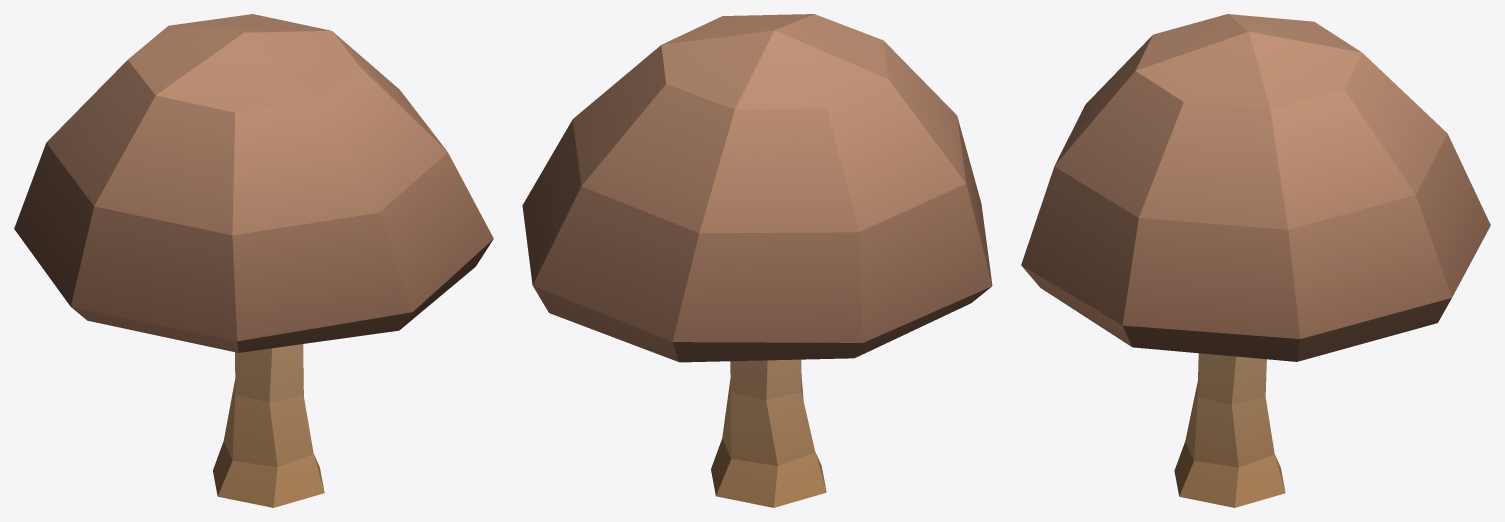
Rendered from grzyb8.fbx.
3 renders of one model, left to right at view 1: azimuth 30°, elevation 25°; view 2: azimuth 150°, elevation 25°; view 3: azimuth 270°, elevation 25°, orthographic. The views are drawn at different scales.
Parts seen in each view (by area): view 1: grzyb8, Circle.007; view 2: grzyb8, Circle.007; view 3: grzyb8, Circle.007.
Part boxes in pixels (x1,y1,x2,y2): grzyb8: (14, 14, 493, 352); Circle.007: (213, 344, 324, 507); grzyb8: (522, 14, 992, 362); Circle.007: (711, 359, 826, 507); grzyb8: (1021, 14, 1490, 361); Circle.007: (1174, 353, 1285, 507).
Size of the model in its own units: 466 by 485 by 466.
